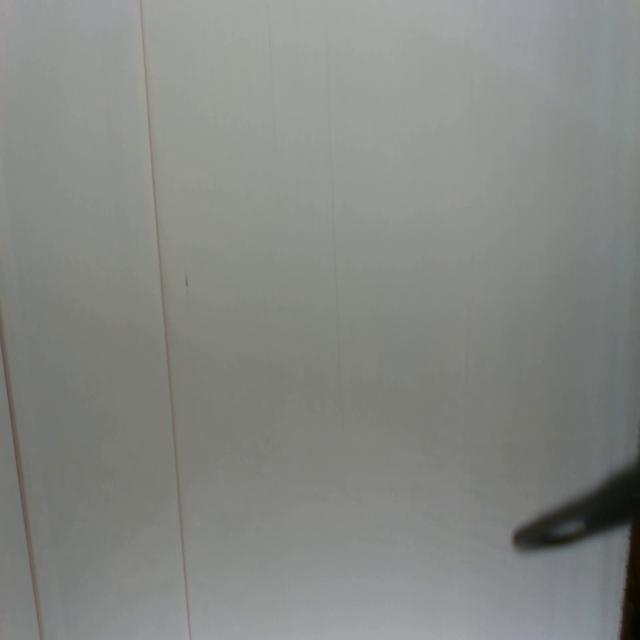crease: (139, 2, 192, 640), (0, 309, 45, 639), (323, 9, 344, 402), (264, 6, 282, 196)
hole: (183, 269, 191, 291)
